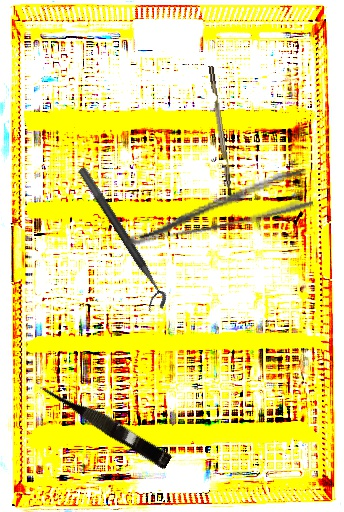Chopper: (208, 64, 240, 205)
Dressing Forceps: (117, 167, 315, 250)
Fixation Ring: (66, 165, 172, 316)
Micro Scissor: (36, 376, 175, 470)
